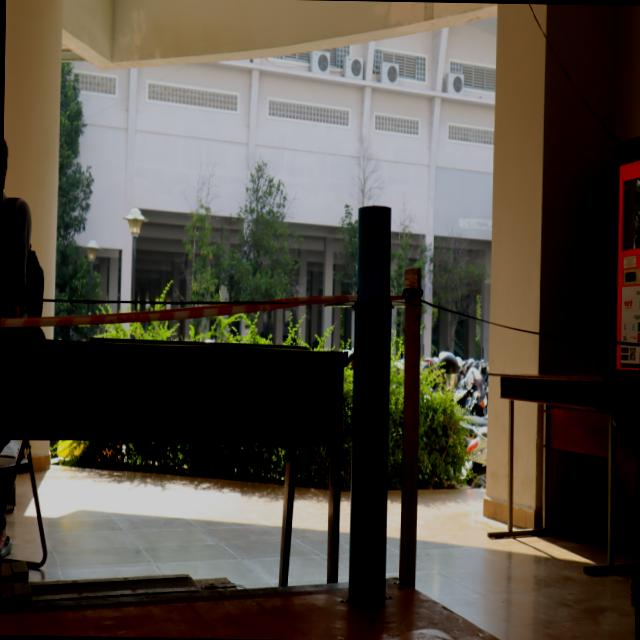pole: (329, 196, 416, 402)
